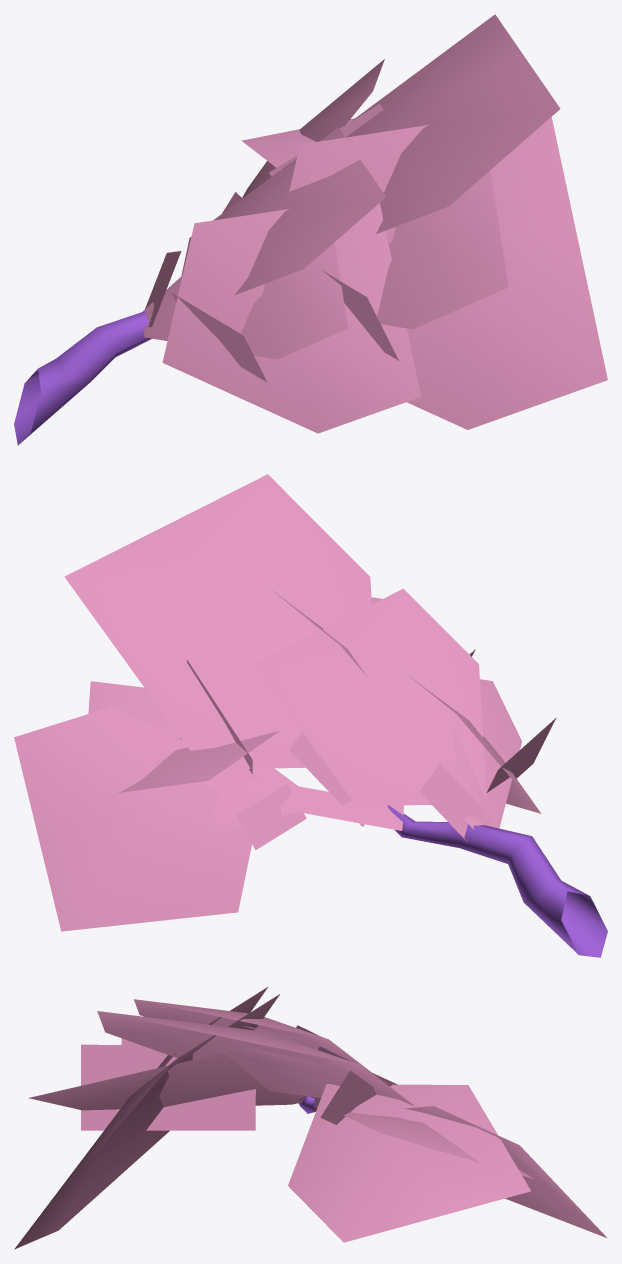
File: tree_branch.fbx
The picture shows the model from 3 angles, top to bottom: view 1: azimuth 30°, elevation 25°; view 2: azimuth 150°, elevation 25°; view 3: azimuth 270°, elevation 25°; orthographic projection. The views are drawn at different scales.
Visible parts, largest first — view 1: L6 a branch_leaves, L6 a branch_wood; view 2: L6 a branch_leaves, L6 a branch_wood; view 3: L6 a branch_leaves.
Part boxes in pixels (x1=…): L6 a branch_leaves: x1=142, y1=14, x2=607, y2=433; L6 a branch_wood: x1=14, y1=311, x2=151, y2=445; L6 a branch_leaves: x1=14, y1=474, x2=556, y2=931; L6 a branch_wood: x1=387, y1=805, x2=607, y2=957; L6 a branch_leaves: x1=14, y1=987, x2=607, y2=1249.
Size of the model in its own units: 55885 by 30989 by 55797.
